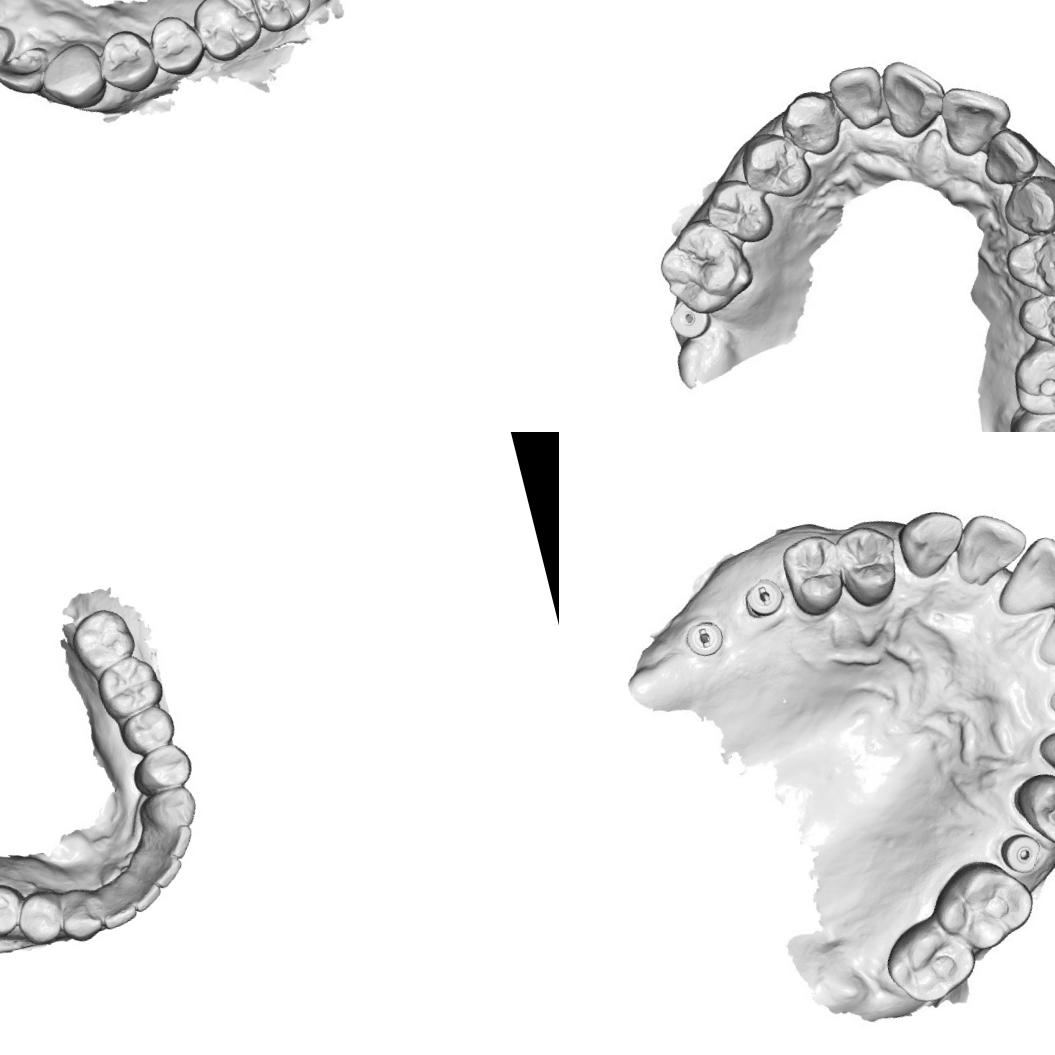canine: (891, 502, 974, 582), (36, 35, 111, 112), (779, 86, 847, 157), (999, 170, 1055, 238), (136, 780, 201, 838), (53, 883, 107, 946), (1036, 710, 1055, 791)
implant: (994, 826, 1048, 878)
implant_minus: (734, 570, 790, 624), (680, 608, 730, 664)
incisor: (946, 503, 1036, 591), (874, 52, 948, 144), (984, 528, 1055, 622), (938, 78, 1014, 158), (829, 64, 886, 126), (978, 130, 1036, 190), (0, 44, 56, 102), (90, 876, 142, 933), (1023, 585, 1055, 673), (115, 864, 166, 917), (134, 845, 188, 894), (142, 820, 199, 866), (0, 14, 27, 93)
molar: (924, 848, 1042, 962), (878, 912, 982, 1011), (656, 221, 750, 318), (62, 601, 142, 679), (90, 648, 170, 726), (185, 0, 273, 66), (1007, 333, 1055, 422), (244, 0, 319, 39), (1009, 396, 1055, 432)
premolar: (829, 519, 908, 611), (777, 530, 851, 619), (707, 174, 778, 250), (739, 127, 806, 204), (94, 23, 160, 98), (142, 4, 207, 76), (1008, 759, 1055, 856), (115, 699, 180, 759), (9, 885, 68, 951), (128, 739, 196, 796), (1003, 229, 1055, 293), (0, 875, 33, 943), (1019, 288, 1055, 349)
